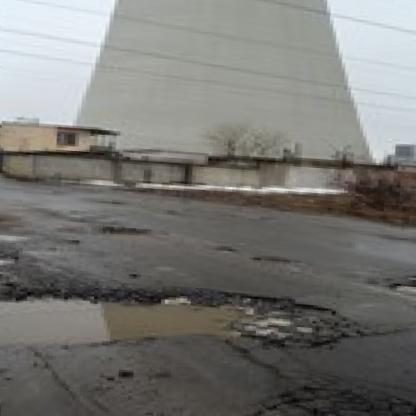pothole: (0, 268, 363, 372), (252, 379, 416, 416), (389, 278, 416, 300), (253, 255, 294, 265), (216, 245, 243, 256)
